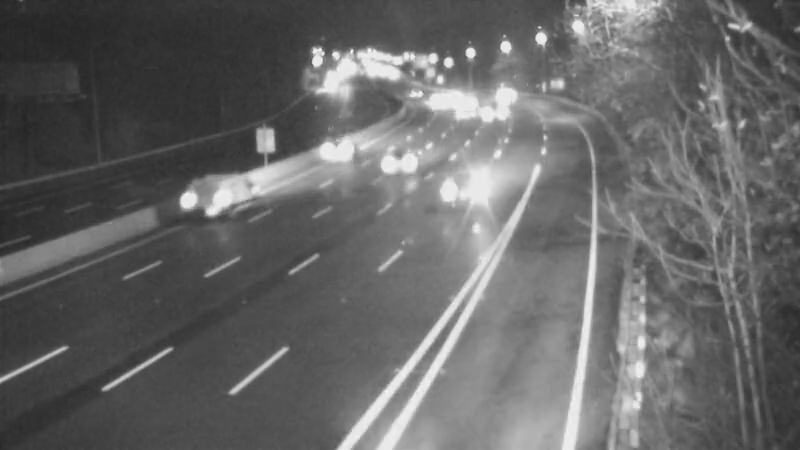vehicle: (362, 126, 442, 206), (427, 145, 507, 225), (160, 153, 240, 233), (390, 68, 440, 118), (476, 70, 526, 120), (470, 89, 520, 139), (433, 86, 483, 136), (314, 124, 364, 174)
